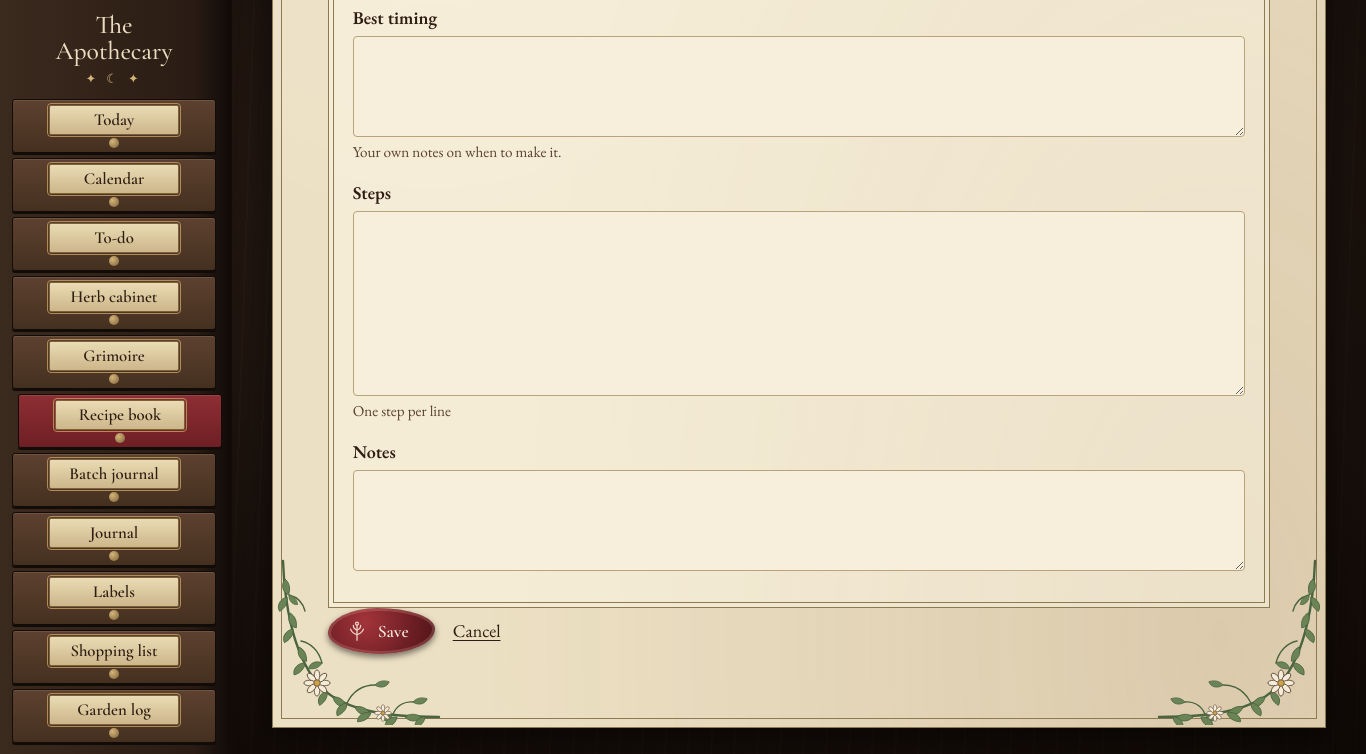
Scenario: marks name and type required and shows server errors on them
The image size is (1366, 754).
(page scrolled)
Click the button "Save". click: (381, 631)
box: [328, 608, 435, 654]
(page scrolled)
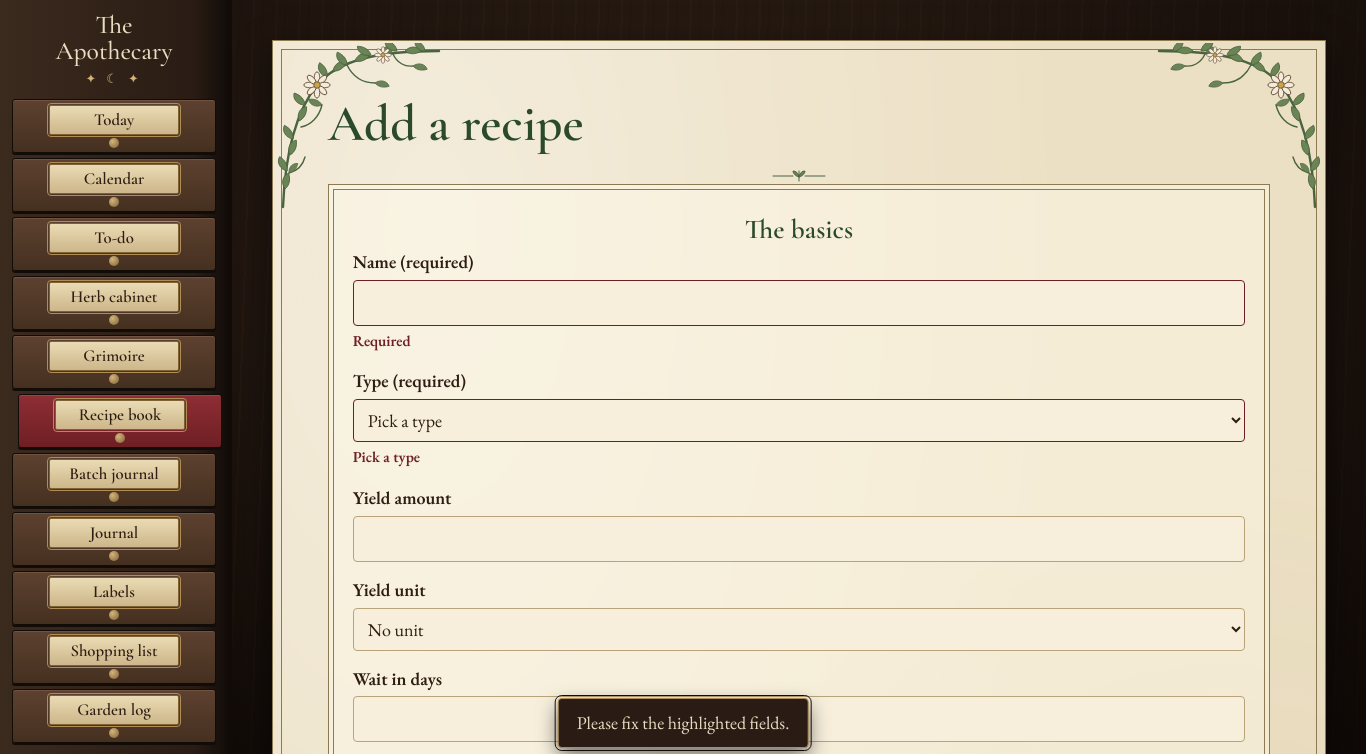
Check: the text "Required" is shown, box [353, 331, 411, 351]
